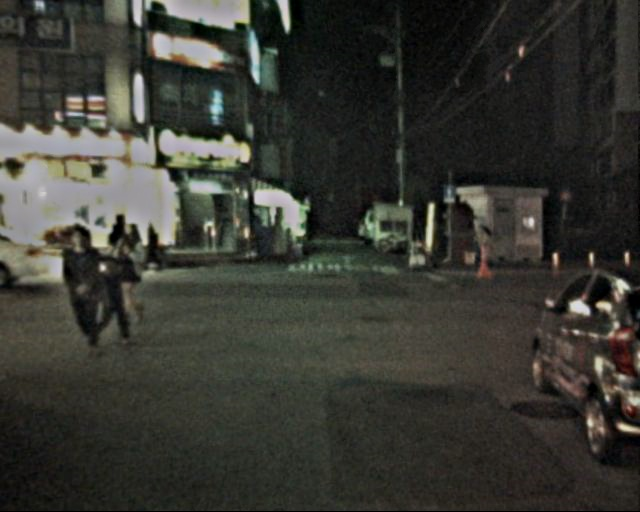person: (59, 221, 116, 354), (93, 228, 145, 342), (145, 216, 167, 273), (468, 214, 490, 270)
